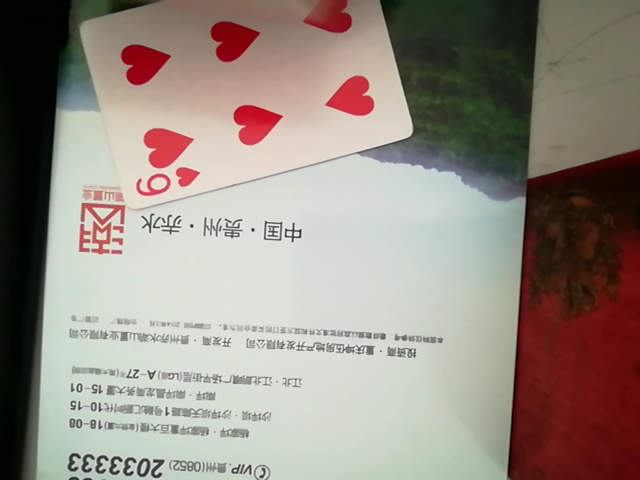hx 6: (85, 0, 415, 217)
